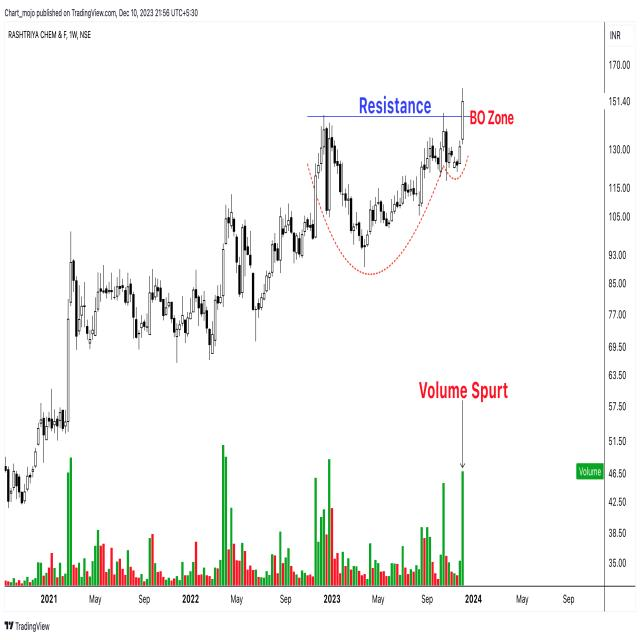Cup-and-handle: (312, 120, 474, 254)
